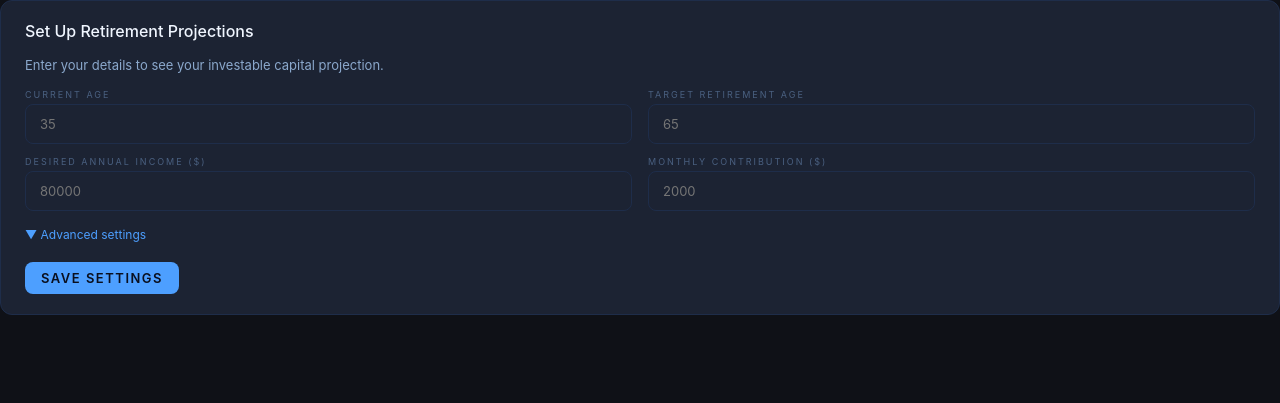
Test: ForecastingSetup › renders advanced toggle that shows extra fields when clicked
The image size is (1280, 403).
Check: the text "Expected annual return (%)" is not shown
Click the button "▼ Advanced settings": coordinates (86, 234) [25,227,1255,242]
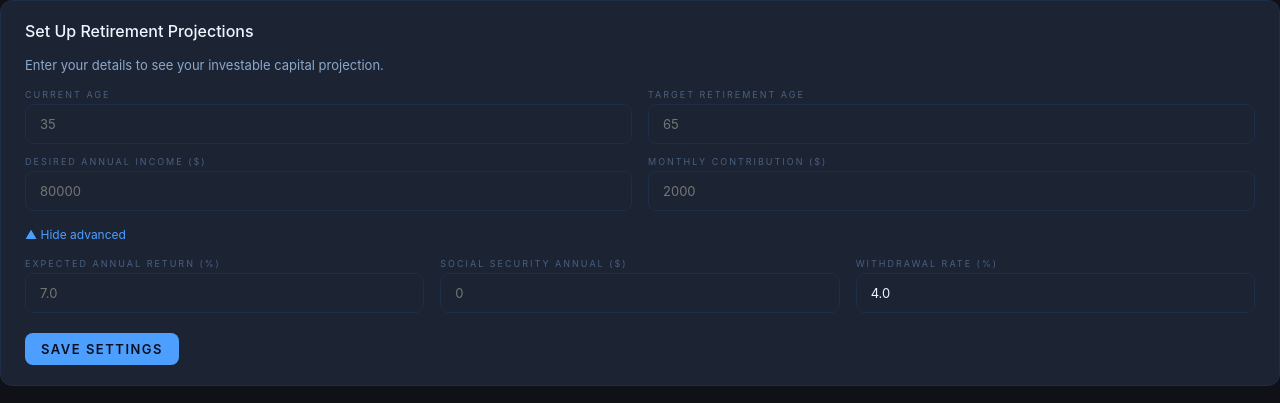
Check: the text "Expected annual return (%)" is shown, box [25,258,424,313]
